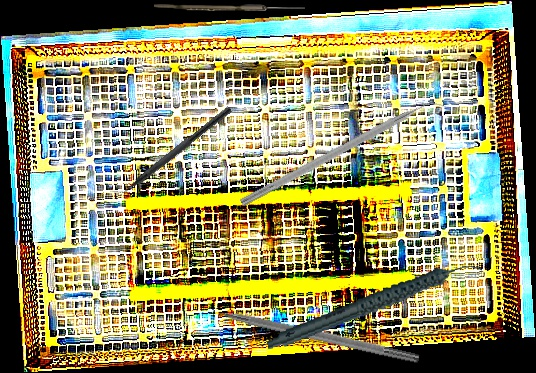Chopper: (239, 91, 451, 218), (108, 98, 233, 203)
Handpiece: (259, 260, 490, 351)
Hook Surgical: (196, 300, 421, 365)
Surgical Spoon: (154, 4, 305, 11)
